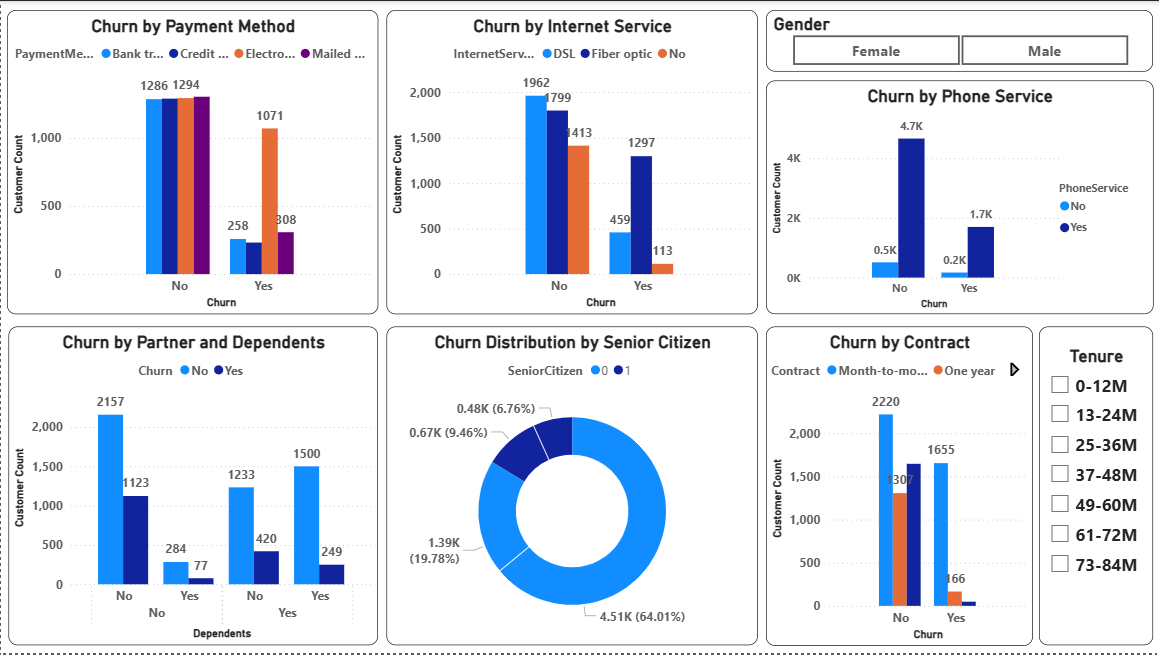

This screenshot's page, from the dashboard's own definition file:
{"tool":"powerbi","page":{"name":"Churn Drivers","canvas":[1280,720],"ordinal":1},"visuals":[{"type":"clusteredColumnChart","title":"Churn by Contract","fields":{"Category":["churn_data.Churn"],"Y":["CountNonNull(churn_data.Contract)"],"Series":["churn_data.Contract"]},"box":[844.8,359.5,294.9,352.8],"z":0},{"type":"clusteredColumnChart","title":"Churn by Payment Method","fields":{"Category":["churn_data.Churn"],"Y":["CountNonNull(churn_data.PaymentMethod)"],"Series":["churn_data.PaymentMethod"]},"box":[6,10,410,336],"z":1000},{"type":"clusteredColumnChart","title":"Churn by Internet Service","fields":{"Category":["churn_data.Churn"],"Y":["CountNonNull(churn_data.InternetService)"],"Series":["churn_data.InternetService"]},"box":[426,10,410,336],"z":2000},{"type":"donutChart","title":"Churn Distribution by Senior Citizen","fields":{"Y":["CountNonNull(churn_data.SeniorCitizen)"],"Category":["churn_data.SeniorCitizen"],"Series":["churn_data.Churn"]},"box":[426,360,410,352],"z":3000},{"type":"clusteredColumnChart","title":"Churn by Phone Service","fields":{"Category":["churn_data.Churn"],"Y":["CountNonNull(churn_data.PhoneService)"],"Series":["churn_data.PhoneService"]},"box":[844,88,428,258],"z":4000},{"type":"clusteredColumnChart","title":"Churn by Partner and Dependents","fields":{"Series":["churn_data.Churn"],"Y":["CountNonNull(churn_data.Partner)"],"Category":["churn_data.Partner","churn_data.Dependents"]},"box":[8,360,408,352],"z":5000},{"type":"slicer","title":"Gender","fields":{"Values":["churn_data.gender"]},"box":[844.8,9.9,427.4,67.9],"z":6000},{"type":"slicer","title":"Tenure","fields":{"Values":["churn_data.tenure_bins"]},"box":[1146,360,126,352],"z":7000}]}

Visuals, with their boxes in screenshot pixels (x1, y1, x2, y2), scaled from the page's 1280x720 canvas onto the 1159x655 screenshot:
"Churn by Contract" clusteredColumnChart: {"left": 765, "top": 327, "right": 1032, "bottom": 648}
"Churn by Payment Method" clusteredColumnChart: {"left": 5, "top": 9, "right": 377, "bottom": 315}
"Churn by Internet Service" clusteredColumnChart: {"left": 386, "top": 9, "right": 757, "bottom": 315}
"Churn Distribution by Senior Citizen" donutChart: {"left": 386, "top": 328, "right": 757, "bottom": 648}
"Churn by Phone Service" clusteredColumnChart: {"left": 764, "top": 80, "right": 1152, "bottom": 315}
"Churn by Partner and Dependents" clusteredColumnChart: {"left": 7, "top": 328, "right": 377, "bottom": 648}
"Gender" slicer: {"left": 765, "top": 9, "right": 1152, "bottom": 71}
"Tenure" slicer: {"left": 1038, "top": 328, "right": 1152, "bottom": 648}
